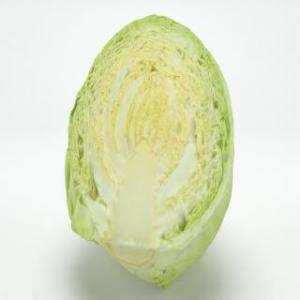cabbage: (62, 11, 238, 290)
